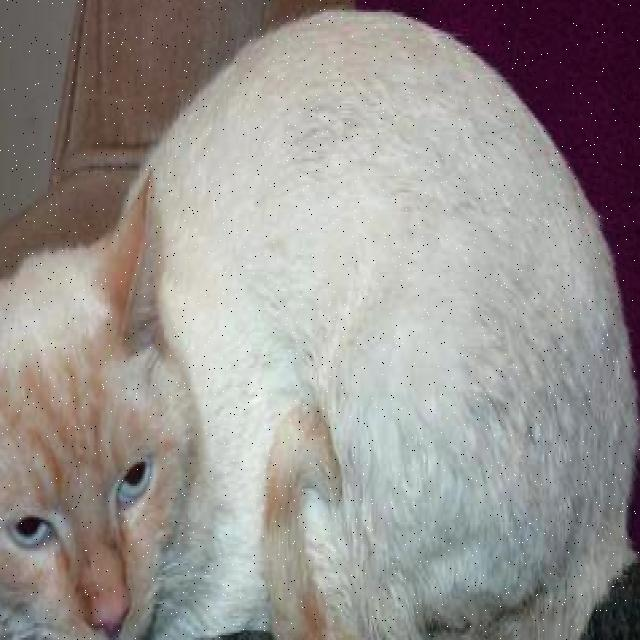Cat: (0, 180, 193, 640)
